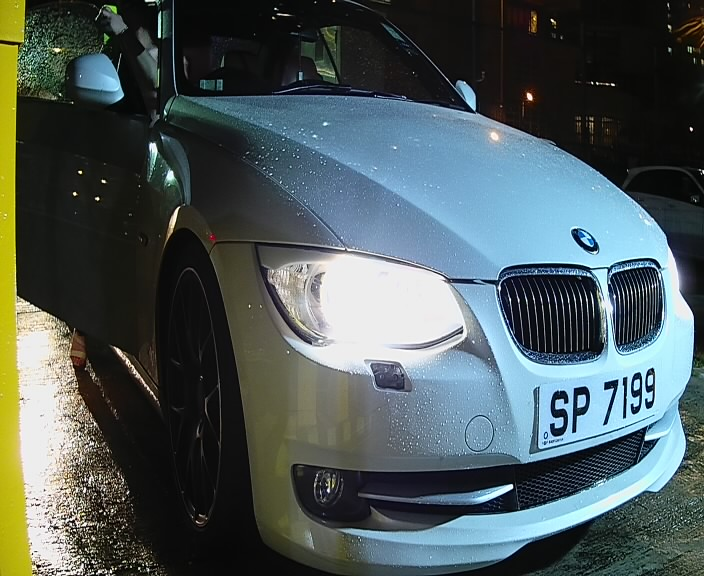Car: (2, 2, 704, 575)
License Plate: (519, 354, 668, 457)
